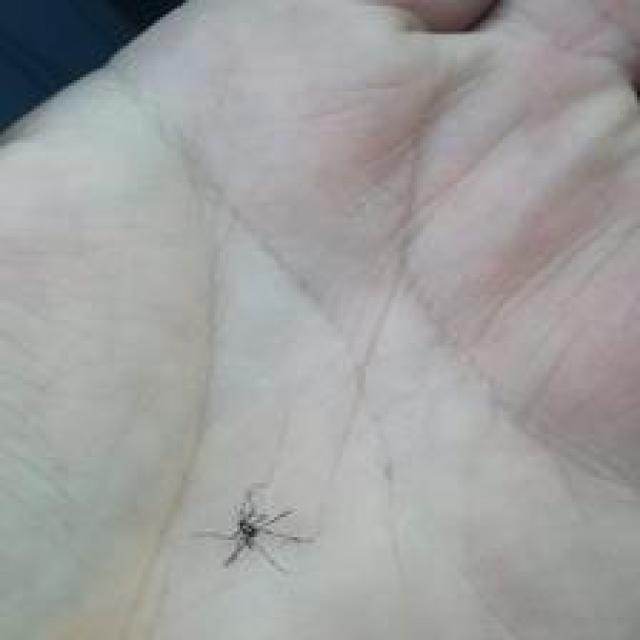Aedes albopictus: (193, 486, 316, 574)
